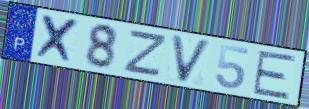5: (214, 43, 251, 91)
8: (84, 23, 120, 71)
E: (250, 49, 299, 101)
V: (169, 33, 213, 85)
X: (33, 12, 83, 66)
Z: (121, 30, 170, 79)
